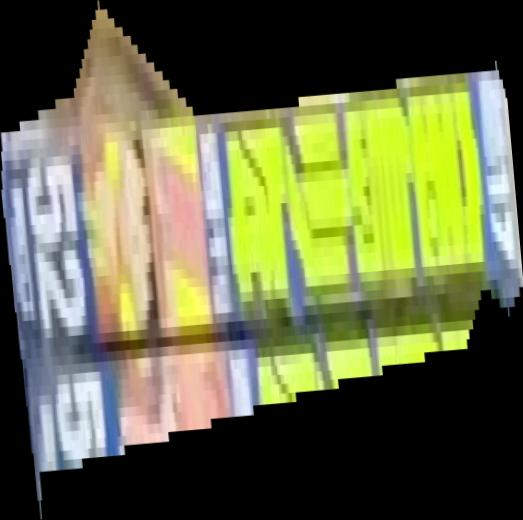flat: (1, 1, 523, 520)
